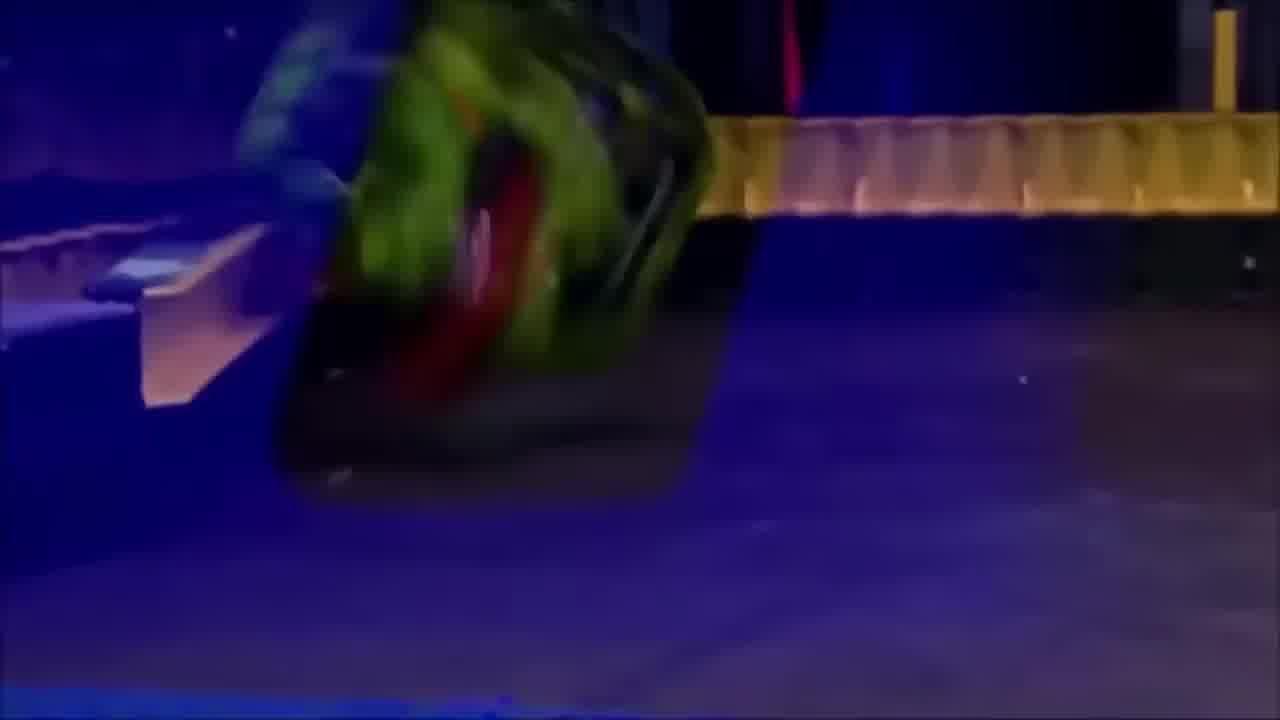combatbot: (243, 0, 723, 371)
